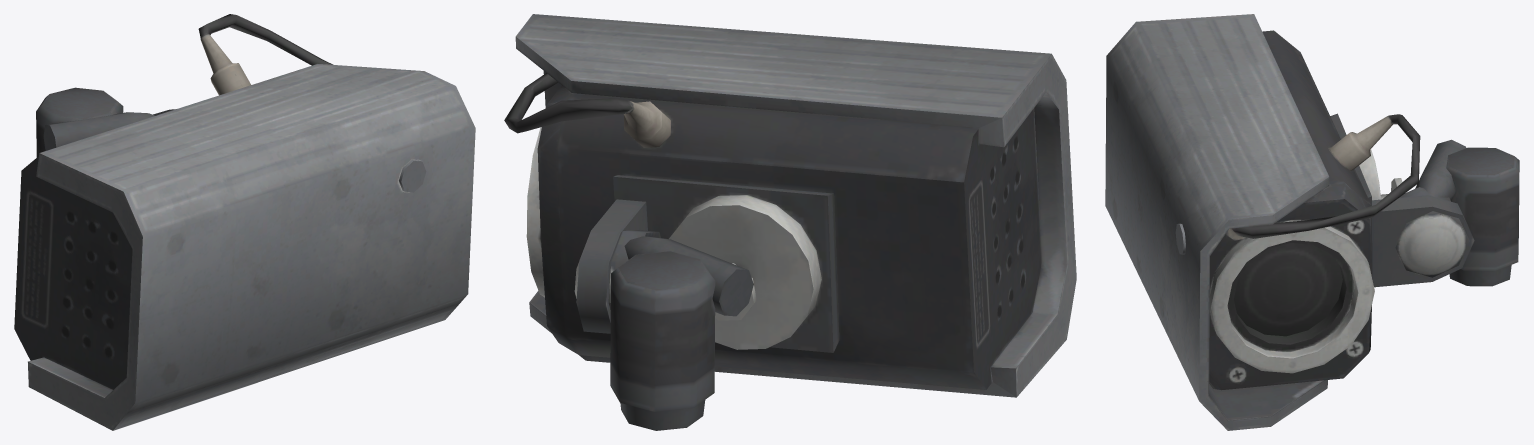
File: t5_weapon_camera_head_world_LOD0.obj
3 views of the same model, side by side, from view 1: azimuth 30°, elevation 25°; view 2: azimuth 150°, elevation 25°; view 3: azimuth 270°, elevation 25° (orthographic). The views are drawn at different scales.
Visible parts, largest first — view 1: mtl_t5_weapon_camera_spike; view 2: mtl_t5_weapon_camera_spike; view 3: mtl_t5_weapon_camera_spike.
Boxes of the visible parts, bbox=[...] form: mtl_t5_weapon_camera_spike: bbox=[14, 14, 475, 430]; mtl_t5_weapon_camera_spike: bbox=[504, 14, 1076, 430]; mtl_t5_weapon_camera_spike: bbox=[1105, 14, 1519, 430].
Size of the model in its own units: 25.52 by 15.44 by 23.24.
